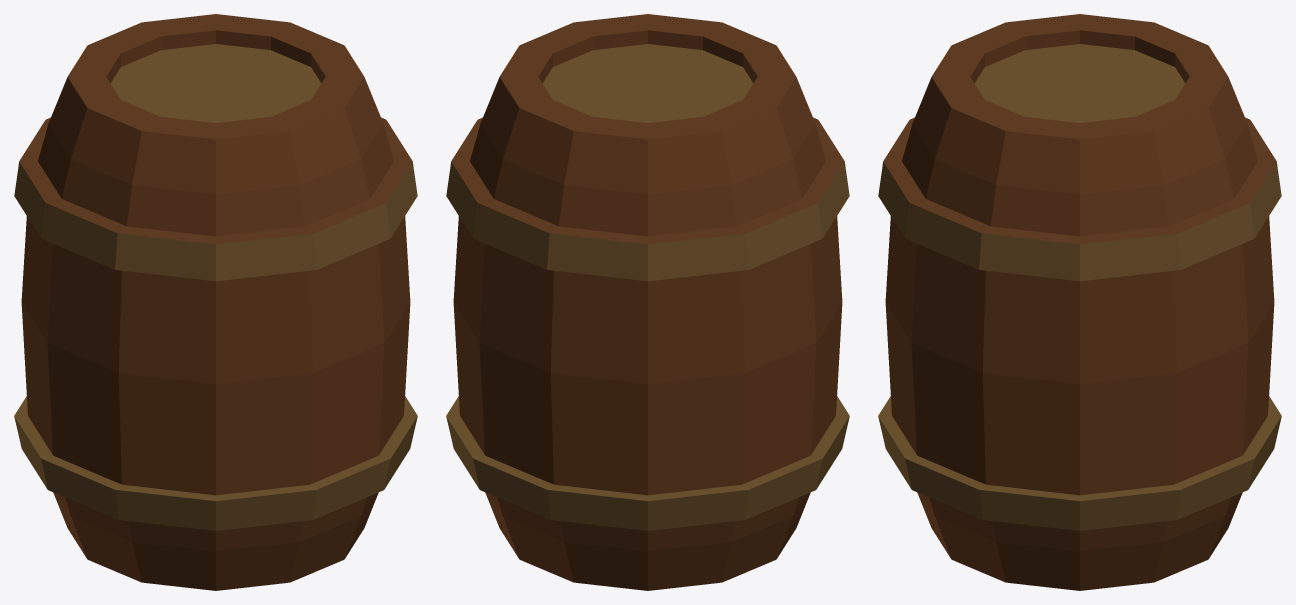
File: barril 1.fbx
3 renders of one model, left to right at view 1: azimuth 30°, elevation 25°; view 2: azimuth 150°, elevation 25°; view 3: azimuth 270°, elevation 25°, orthographic.
Parts seen in each view (by area): view 1: Circle.002; view 2: Circle.002; view 3: Circle.002.
Part boxes in pixels (x1,y1,x2,y2): Circle.002: [14, 14, 417, 590]; Circle.002: [446, 14, 849, 590]; Circle.002: [878, 14, 1281, 590].
Bounding box in the file's own units: 198 × 245 × 198.
